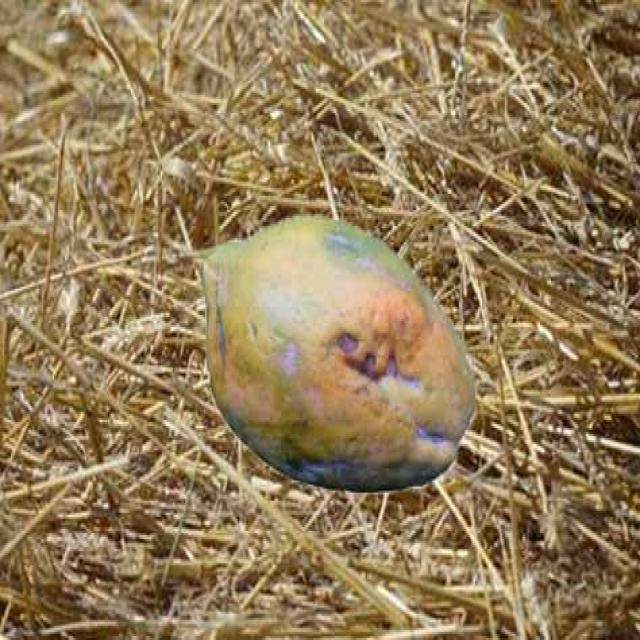Pepaya rippen: (189, 212, 478, 509)
